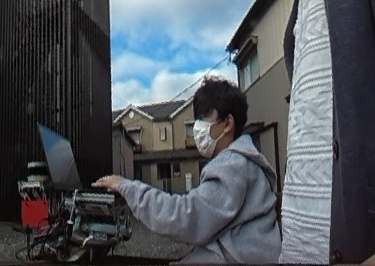person: (179, 78, 287, 266)
